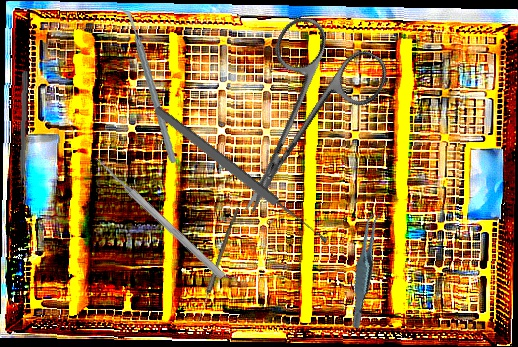Chopper: (101, 5, 194, 164)
Iris Scissors: (195, 9, 395, 238)
Pusher: (92, 154, 227, 281), (16, 70, 29, 201)
Surgical Spoon: (151, 103, 331, 248), (195, 206, 240, 324)
Tissue Forceps: (327, 210, 403, 330)
